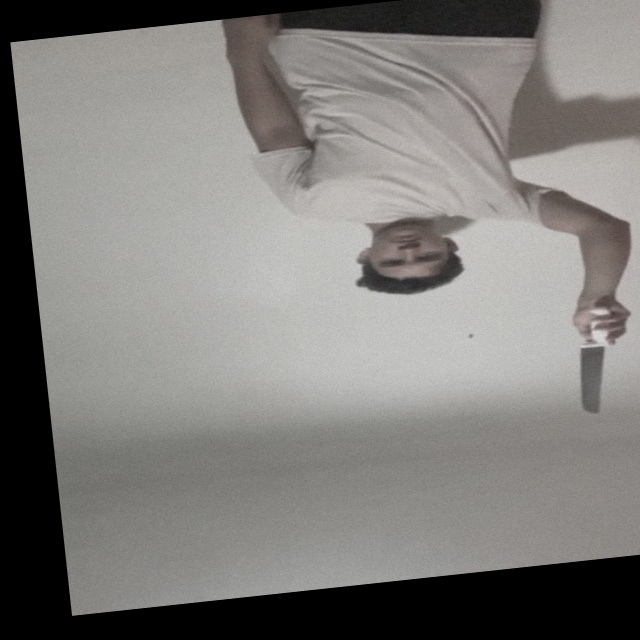Sharp-Object: (572, 343, 612, 417)
